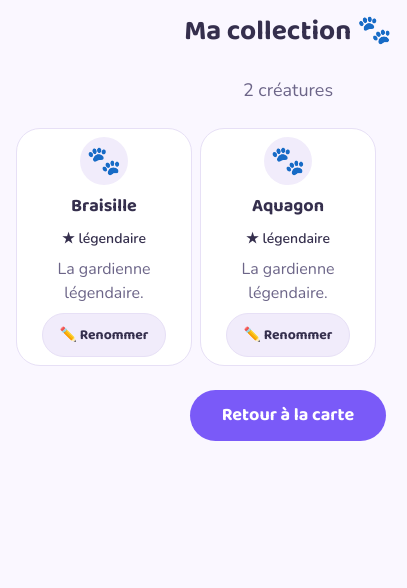
CollectionScreen — renommage (PRODUCT §2.3) › avec deux créatures, renommer l'une laisse l'autre inchangée
The image size is (407, 588).
Click the button "✏️ Renommer" below "Braisille" at (104, 335), box [42,313,166,357]
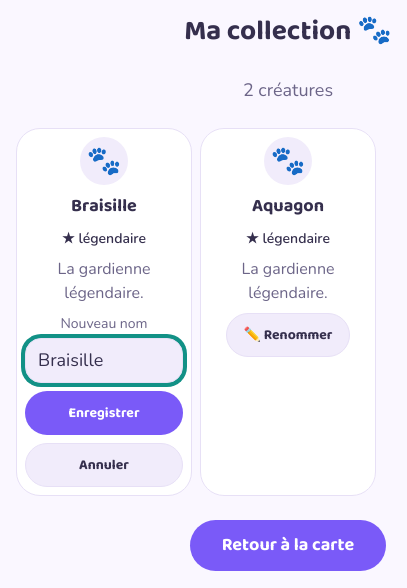
Replace the text in the field labelled "Nouveau nom" with "Flamme" at (104, 360), box [25,338,183,383]
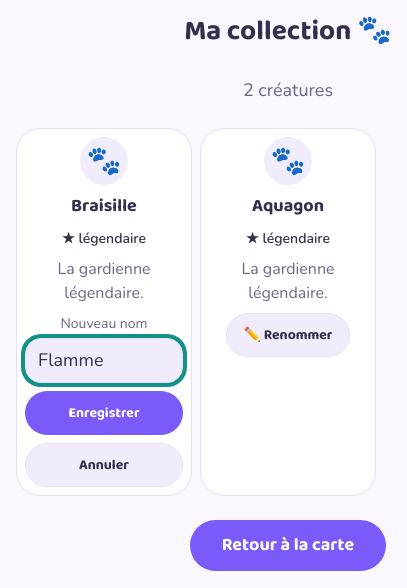
Click the button "Enregistrer" at (104, 413), box [25,391,183,435]
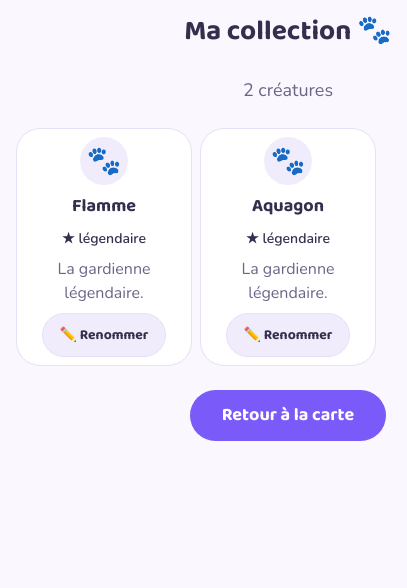
Expected: the text "Aquagon" is shown, [252,193,324,220]
Expected: the text "Flamme" is shown, [72,193,136,220]
Expected: the link "Braisille" is gone
